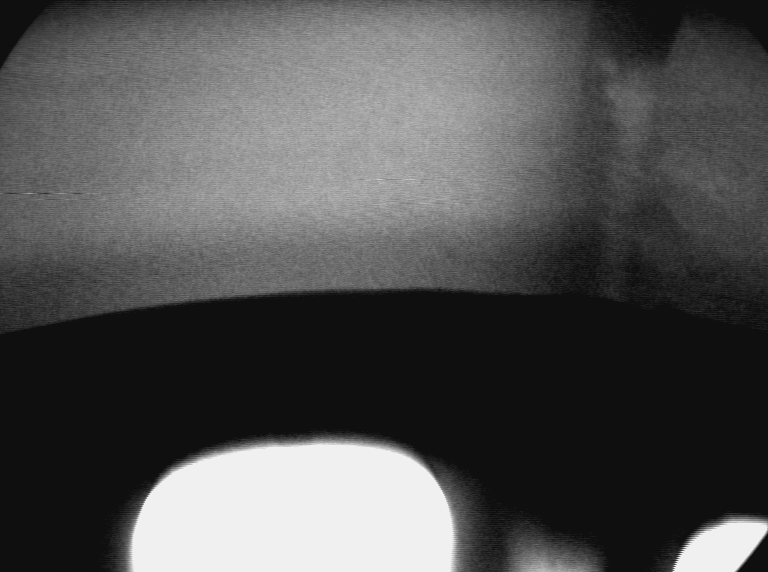defect: (656, 141, 764, 221)
